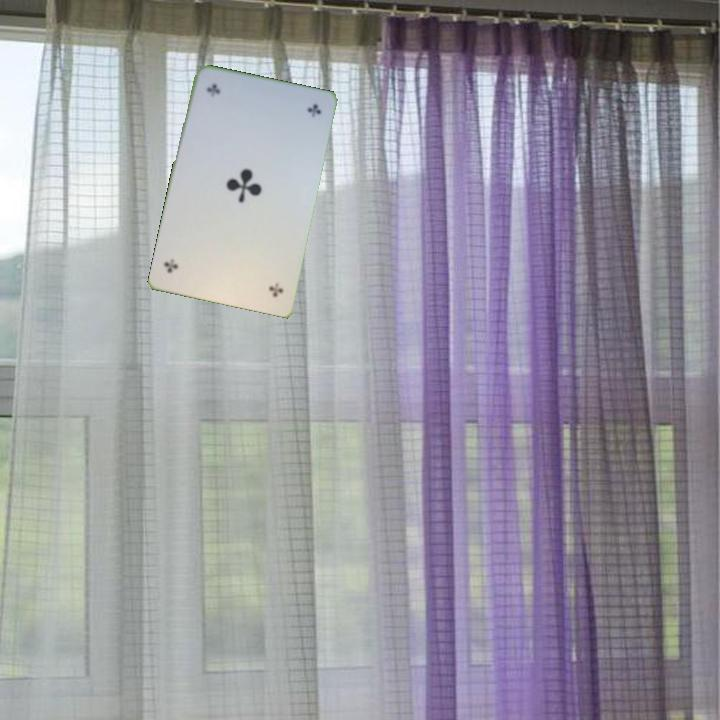c_a.png: (190, 74, 267, 144), (218, 237, 295, 306)
